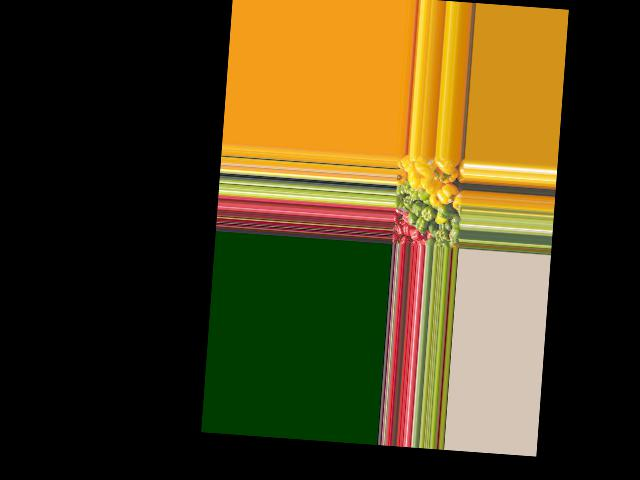bell_pepper: (448, 231, 461, 248)
